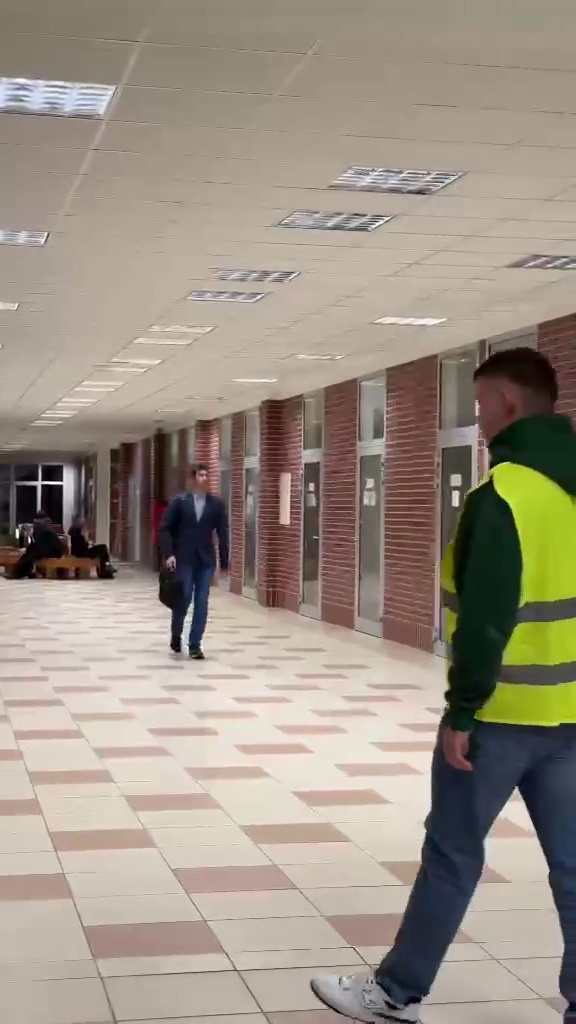no vest: (153, 459, 232, 665)
vest: (383, 337, 576, 1024)
